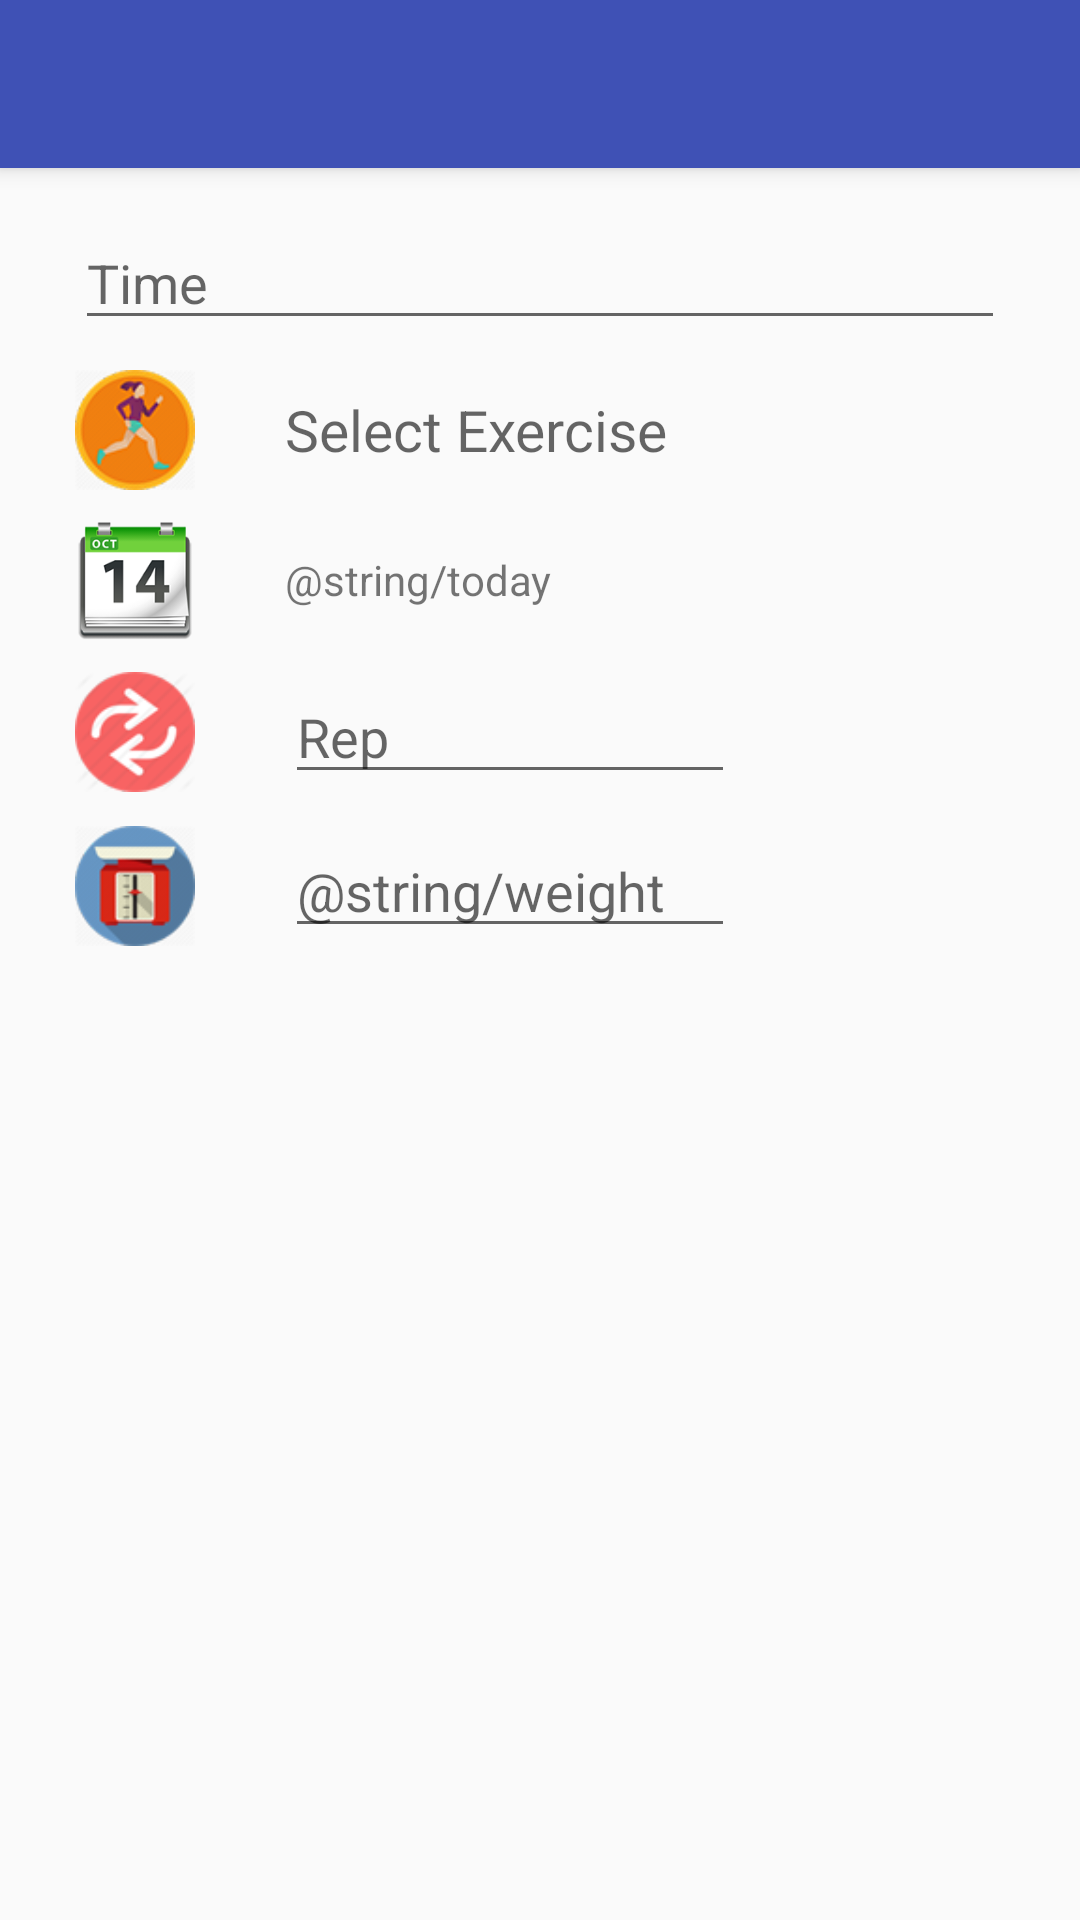

Icon bounding boxes for this 1080px×1920px phone screenshot, format Rect(x1, y1, x2, y2):
calendar: Rect(79, 522, 191, 639)
repeat: Rect(75, 672, 195, 792)
